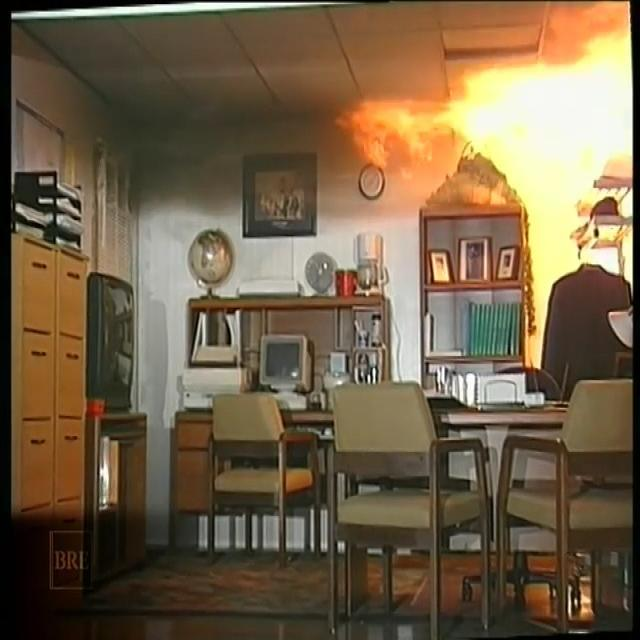Fire: (332, 0, 635, 333)
